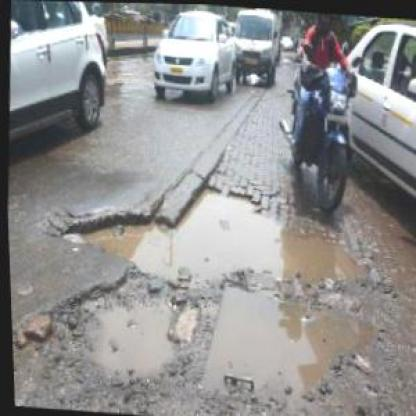pothole: (49, 162, 364, 287), (190, 273, 379, 406), (60, 265, 184, 383)
